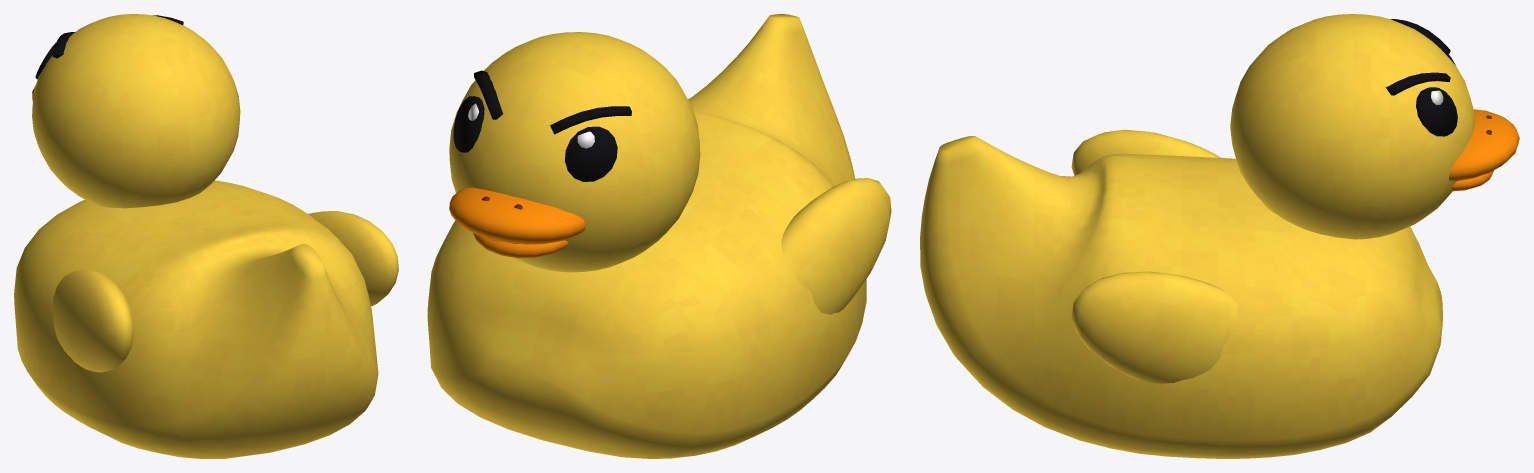
The model's file is w_duck.glb.
3 renders of one model, left to right at view 1: azimuth 30°, elevation 25°; view 2: azimuth 150°, elevation 25°; view 3: azimuth 270°, elevation 25°, orthographic. The views are drawn at different scales.
Visible parts, largest first — view 1: duck_body_wzA, duck_head_wzB, duck_paint_wzN; view 2: duck_body_wzA, duck_head_wzB, duck_paint_wzN; view 3: duck_body_wzA, duck_head_wzB, duck_paint_wzN.
Boxes of the visible parts, <box> form: duck_body_wzA: <box>14,180,398,458</box>; duck_head_wzB: <box>32,14,240,208</box>; duck_paint_wzN: <box>35,15,183,79</box>; duck_body_wzA: <box>427,14,891,458</box>; duck_head_wzB: <box>449,32,700,272</box>; duck_paint_wzN: <box>453,70,631,209</box>; duck_body_wzA: <box>920,129,1442,458</box>; duck_head_wzB: <box>1230,14,1519,239</box>; duck_paint_wzN: <box>1386,19,1491,136</box>.
Size of the model in its own units: 0.2143 by 0.234 by 0.3255.
Materials: 5 (1 with a texture image).
